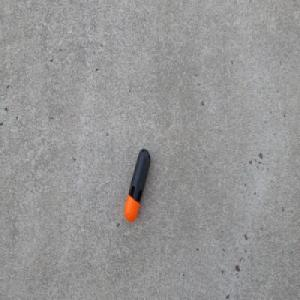PlasticPart: (123, 147, 151, 223)
